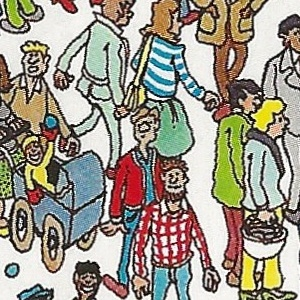Charlie: (120, 97, 180, 203)
